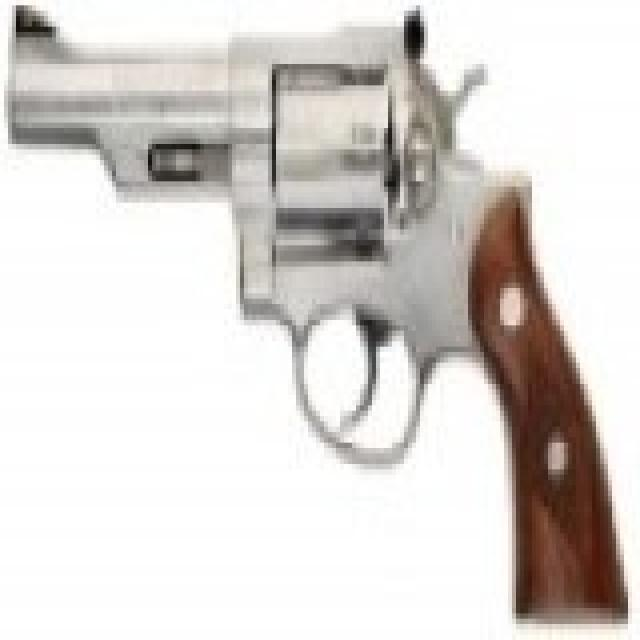gun: (8, 6, 628, 630)
